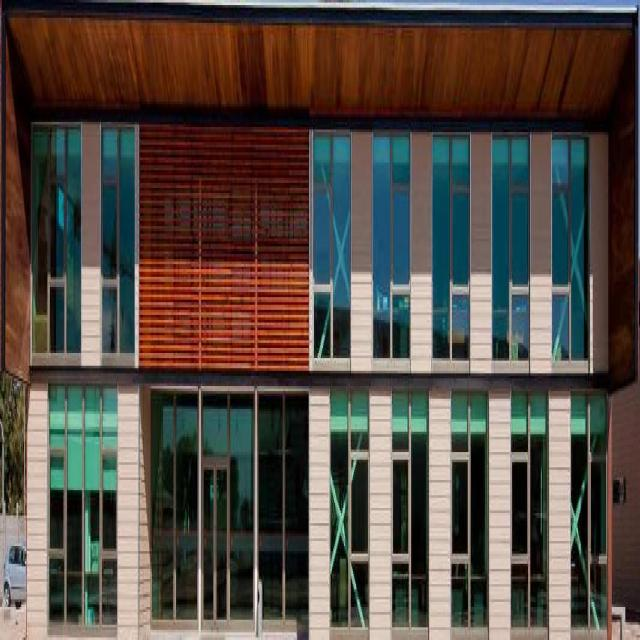door: (202, 454, 230, 638)
wall: (0, 0, 639, 637)
windows: (149, 386, 309, 638), (48, 382, 117, 637), (30, 120, 81, 360), (450, 398, 490, 638), (331, 397, 369, 636), (511, 392, 548, 637), (492, 136, 530, 368), (312, 132, 350, 361), (571, 397, 607, 638), (373, 135, 411, 362), (392, 394, 428, 631), (432, 134, 470, 356), (551, 140, 588, 362), (101, 121, 135, 362)
